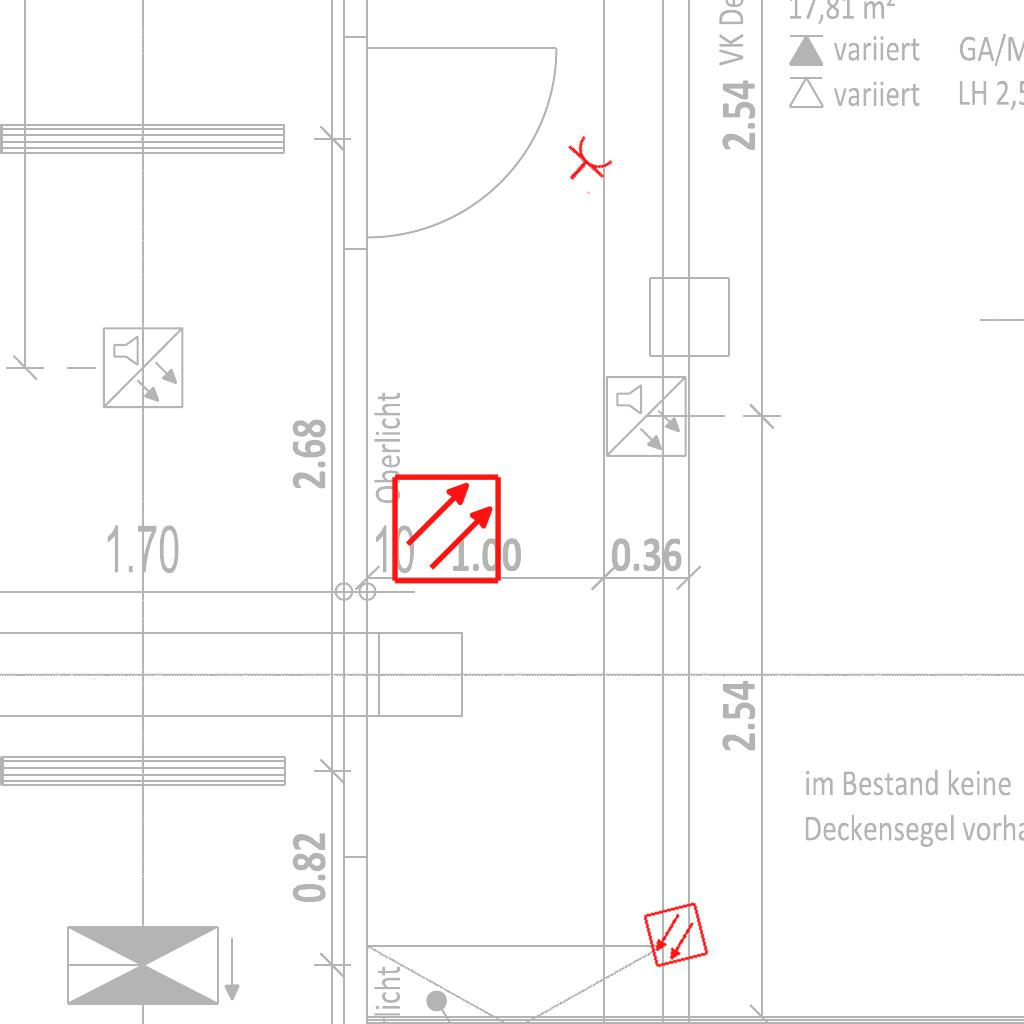RMO_Rauchmelder_optischer: (390, 472, 503, 585), (642, 901, 710, 969)
Schukosteckdose_einfach: (552, 131, 619, 197)
